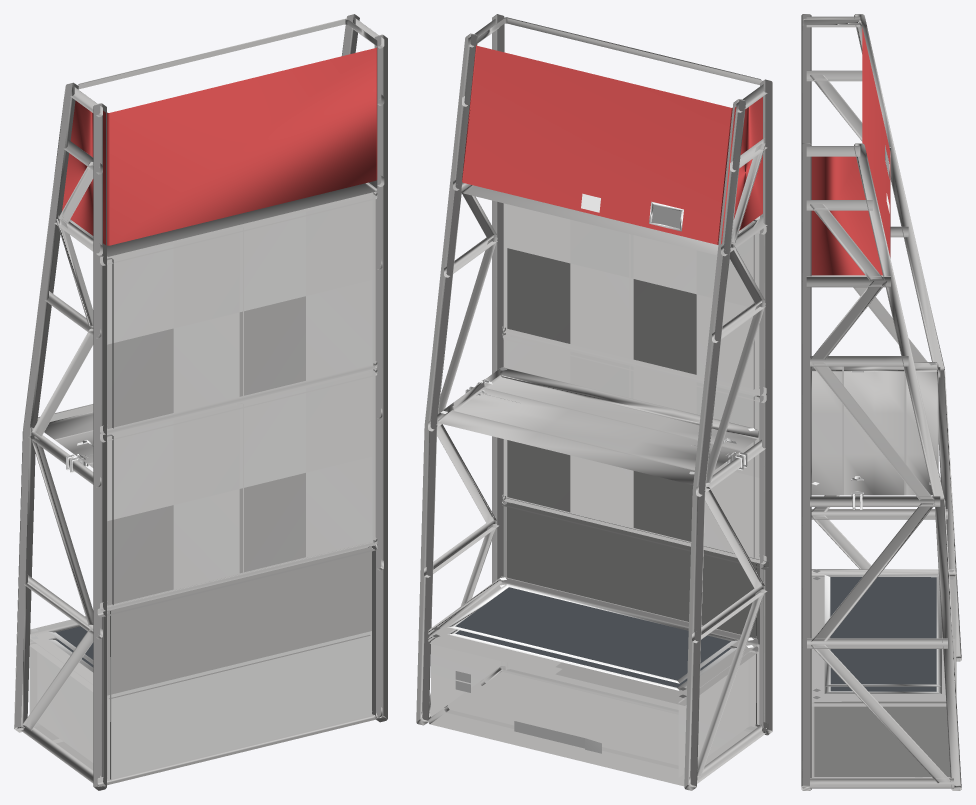
The model's file is rack_clothing_02x01x045_b.glb.
3 views of the same model, side by side, from view 1: azimuth 30°, elevation 25°; view 2: azimuth 150°, elevation 25°; view 3: azimuth 270°, elevation 25° (orthographic). The views are drawn at different scales.
Bounding box in the file's own units: 1.59 × 3.56 × 0.803.
